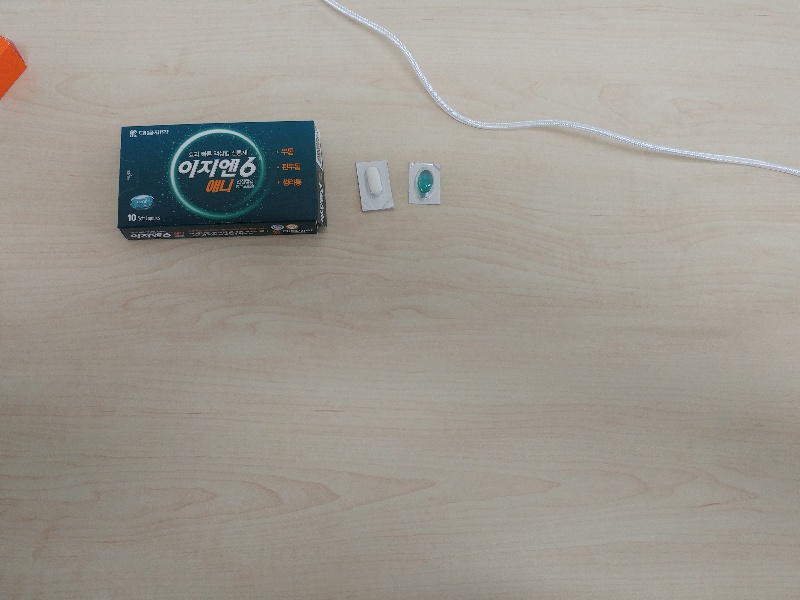ezn: (117, 121, 325, 236)
pill_ezn: (409, 162, 440, 204)
pill_tylenol: (355, 160, 394, 210)
